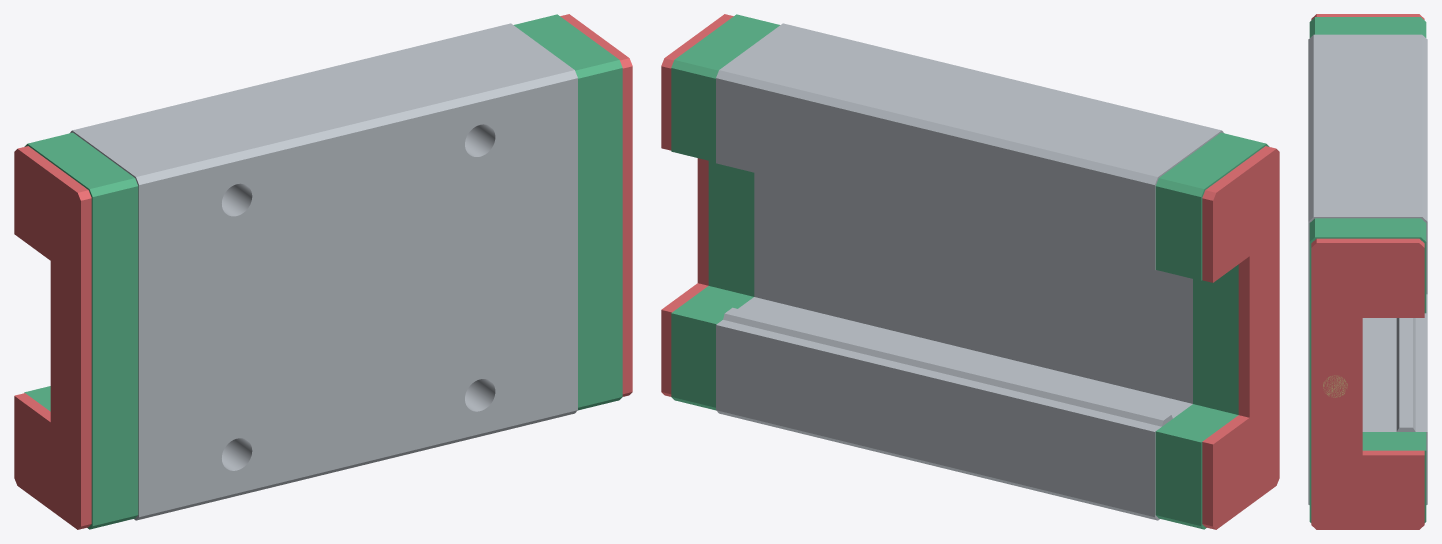
3 views of the same model, side by side, from view 1: azimuth 30°, elevation 25°; view 2: azimuth 150°, elevation 25°; view 3: azimuth 270°, elevation 25° (orthographic). The views are drawn at different scales.
Parts seen in each view (by area): view 1: steel_saddle, wiper_neg_x, endcap_neg_x, endcap_pos_x, wiper_pos_x; view 2: steel_saddle, wiper_neg_x, endcap_neg_x, endcap_pos_x, wiper_pos_x; view 3: steel_saddle, wiper_pos_x, endcap_pos_x, endcap_neg_x, wiper_neg_x, grease_port.
Part boxes in pixels (<box>): steel_saddle: <box>70,23,577,520</box>; wiper_neg_x: <box>14,146,91,529</box>; endcap_neg_x: <box>24,132,138,529</box>; endcap_pos_x: <box>514,14,622,410</box>; wiper_pos_x: <box>560,14,632,396</box>; steel_saddle: <box>716,23,1223,520</box>; wiper_neg_x: <box>1202,146,1279,529</box>; endcap_neg_x: <box>1155,132,1269,529</box>; endcap_pos_x: <box>671,14,779,410</box>; wiper_pos_x: <box>661,14,733,396</box>; steel_saddle: <box>1308,34,1427,504</box>; wiper_pos_x: <box>1311,238,1424,529</box>; endcap_pos_x: <box>1309,218,1426,522</box>; endcap_neg_x: <box>1309,17,1426,37</box>; wiper_neg_x: <box>1311,14,1424,19</box>; grease_port: <box>1323,375,1347,397</box>.
Bounding box in the file's own units: 0.0454 × 0.027 × 0.01.
